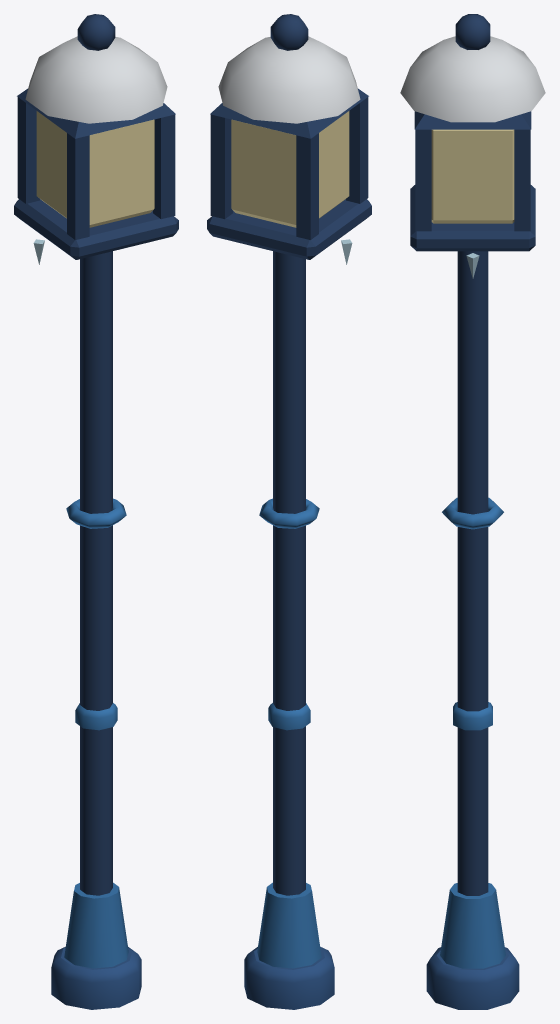
File: ice-lamp.glb
3 views of the same model, side by side, from view 1: azimuth 30°, elevation 25°; view 2: azimuth 150°, elevation 25°; view 3: azimuth 270°, elevation 25° (orthographic).
Visible parts, largest first — view 1: ice-lamp; view 2: ice-lamp; view 3: ice-lamp.
Boxes of the visible parts, x1,y1,x2,y2 form: ice-lamp: [14, 14, 178, 1009]; ice-lamp: [207, 14, 371, 1009]; ice-lamp: [400, 14, 545, 1009].
Size of the model in its own units: 0.44 by 3.26 by 0.44.
